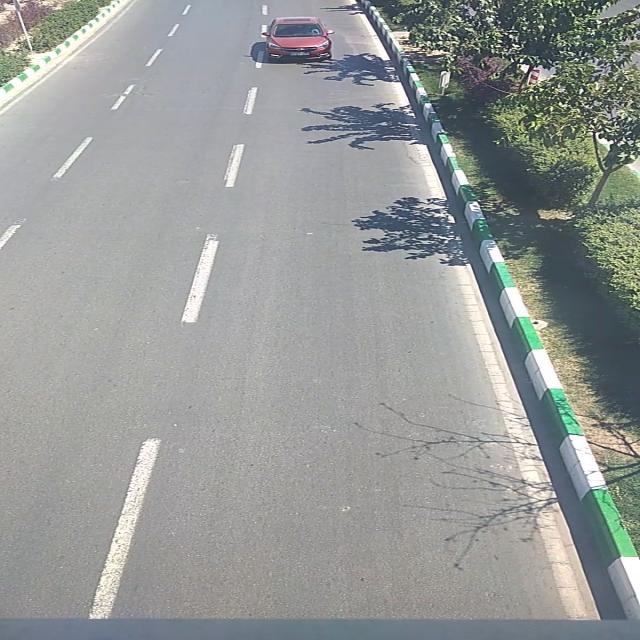car: (261, 16, 335, 61)
